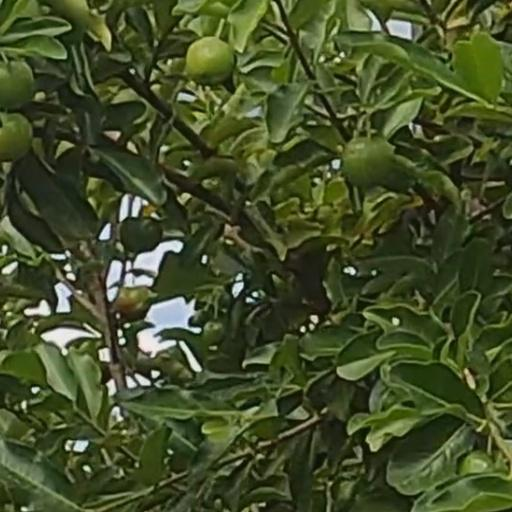acerola_verde: (346, 136, 392, 189), (189, 36, 234, 83), (1, 62, 34, 109), (1, 116, 31, 163)
